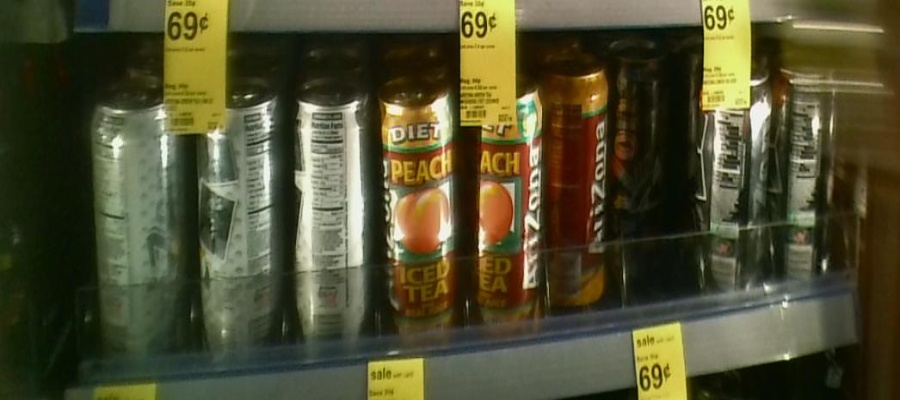bottle: (190, 62, 283, 380), (90, 73, 186, 378), (376, 61, 462, 364), (287, 67, 369, 365), (465, 58, 543, 360), (546, 51, 613, 325), (774, 54, 842, 297), (699, 70, 769, 304), (615, 37, 670, 221)
